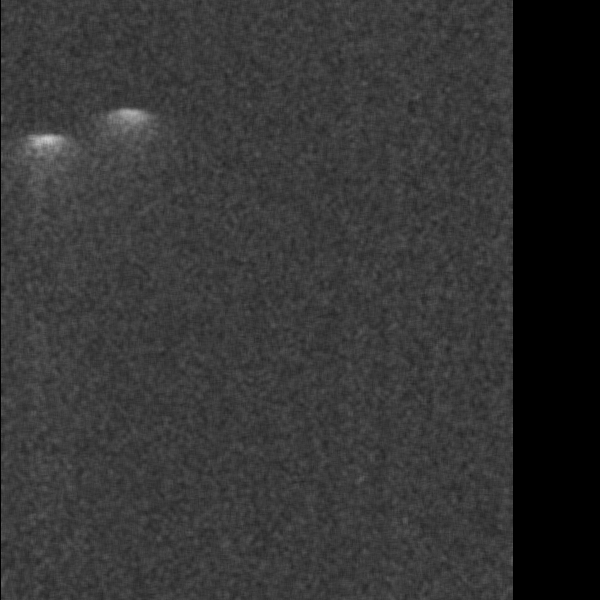spark: (12, 129, 78, 192), (99, 102, 150, 174)
